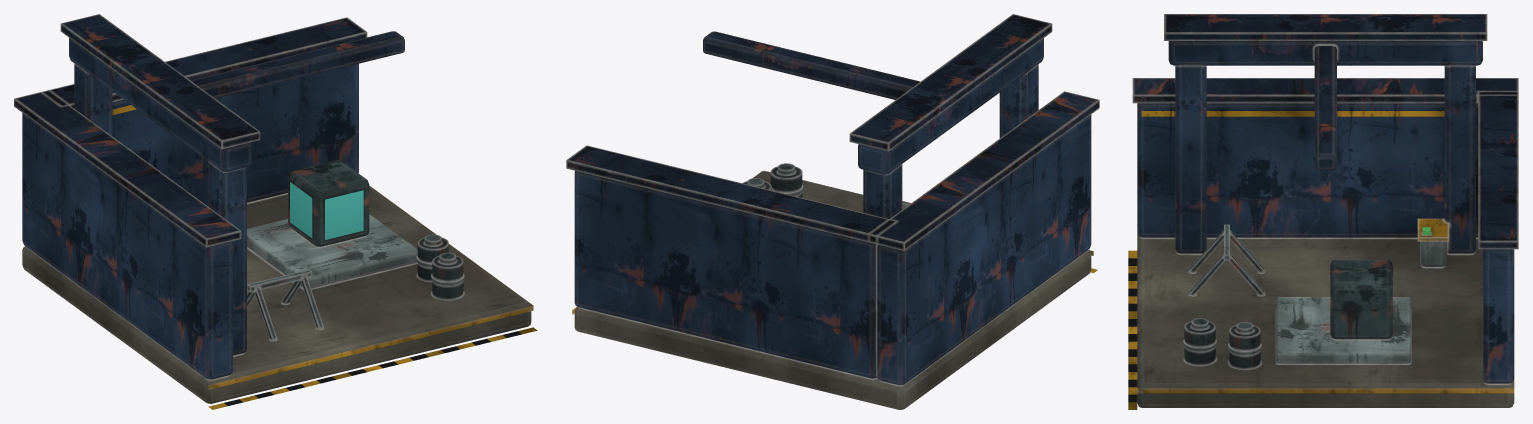
The model's file is hull_forge.glb.
The picture shows the model from 3 angles, left to right: view 1: azimuth 30°, elevation 25°; view 2: azimuth 150°, elevation 25°; view 3: azimuth 270°, elevation 25°; orthographic projection.
Parts seen in each view (by area): view 1: te_hull_forge; view 2: te_hull_forge; view 3: te_hull_forge.
Part boxes in pixels (left/top/right/bottom): te_hull_forge: left=14, top=14, right=537, bottom=409; te_hull_forge: left=566, top=14, right=1099, bottom=409; te_hull_forge: left=1128, top=14, right=1518, bottom=409.
Size of the model in its own units: 0.86 by 0.615 by 0.87.
Materials: 1 (1 with a texture image).
